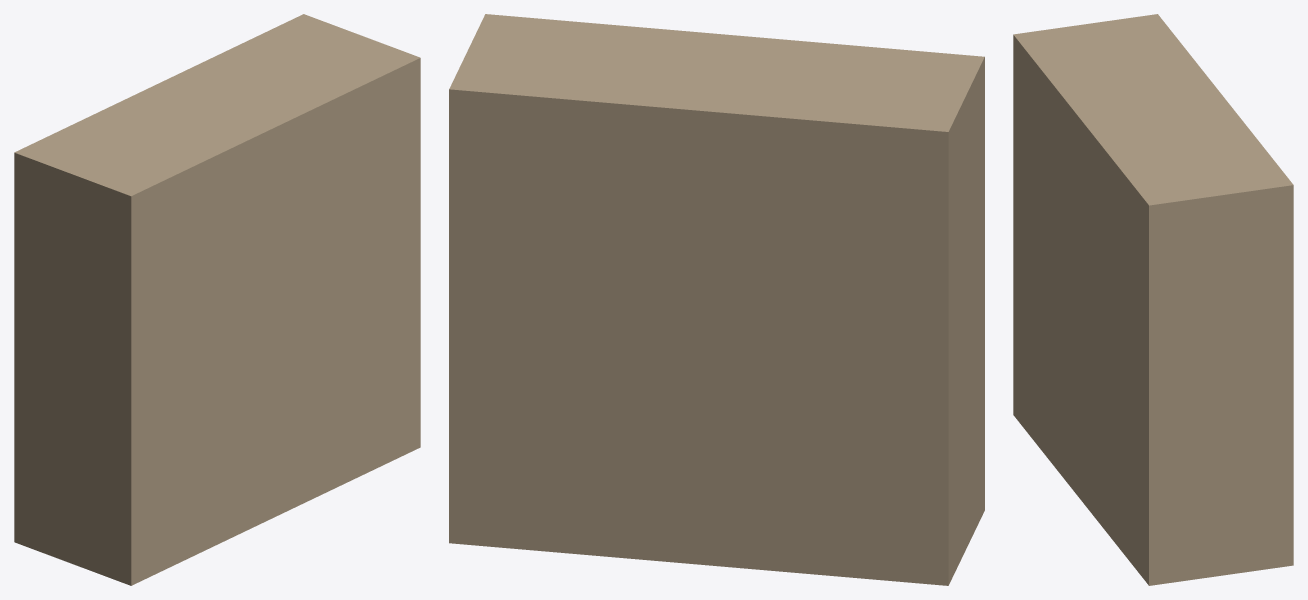
The model's file is bld_98493075.dae.
3 renders of one model, left to right at view 1: azimuth 30°, elevation 25°; view 2: azimuth 150°, elevation 25°; view 3: azimuth 270°, elevation 25°, orthographic. The views are drawn at different scales.
Parts seen in each view (by area): view 1: bld_98493075; view 2: bld_98493075; view 3: bld_98493075.
Part boxes in pixels (x1,y1,x2,y2): bld_98493075: (14, 14, 420, 585); bld_98493075: (449, 14, 984, 585); bld_98493075: (1013, 14, 1293, 585).
Bounding box in the file's own units: 8.64 × 5.35 × 8.
